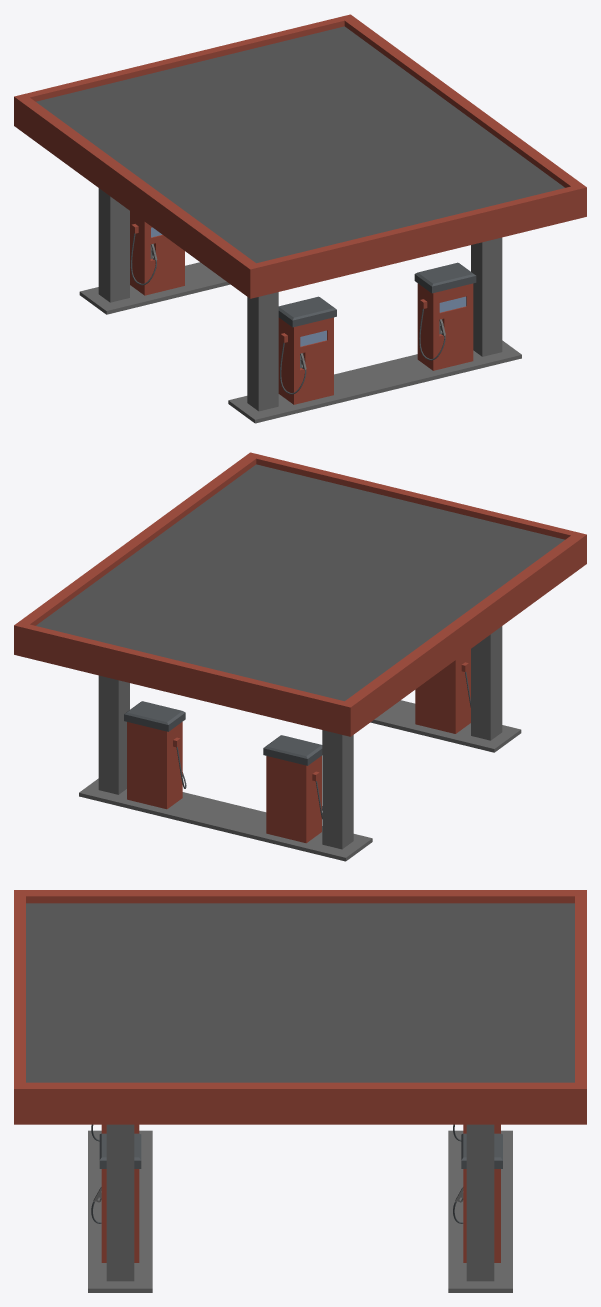
Rendered from Gas_Station_02.fbx.
The picture shows the model from 3 angles, top to bottom: view 1: azimuth 30°, elevation 25°; view 2: azimuth 150°, elevation 25°; view 3: azimuth 270°, elevation 25°; orthographic projection. The views are drawn at different scales.
Parts seen in each view (by area): view 1: Gas_Station_02; view 2: Gas_Station_02; view 3: Gas_Station_02.
Part boxes in pixels (left/top/right/bottom): Gas_Station_02: left=14, top=14, right=586, bottom=423; Gas_Station_02: left=14, top=452, right=586, bottom=861; Gas_Station_02: left=14, top=890, right=586, bottom=1292.
Bounding box in the file's own units: 725 × 381 × 882.
